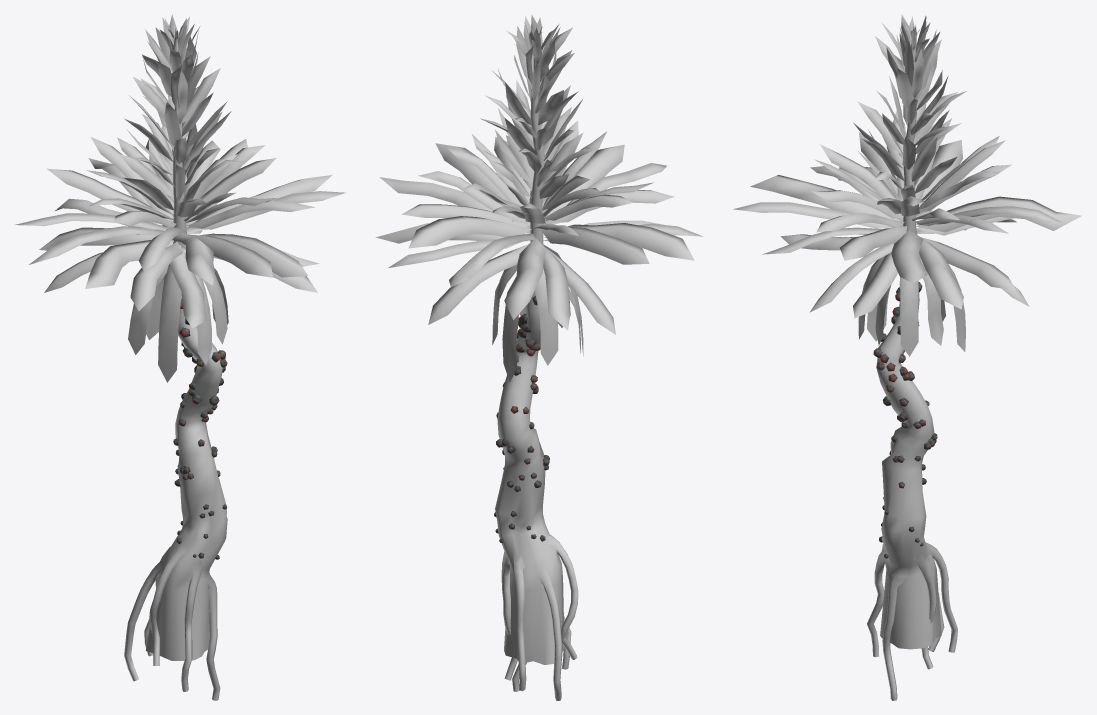
Rendered from Plant15A_L1.fbx.
3 renders of one model, left to right at view 1: azimuth 30°, elevation 25°; view 2: azimuth 150°, elevation 25°; view 3: azimuth 270°, elevation 25°, orthographic. The views are drawn at different scales.
Parts seen in each view (by area): view 1: polySurface1989; view 2: polySurface1989; view 3: polySurface1989.
Part boxes in pixels (x1,y1,x2,y2): polySurface1989: (15,14,345,700); polySurface1989: (375,14,702,700); polySurface1989: (733,14,1081,700).
Size of the model in its own units: 363 by 763 by 363.
